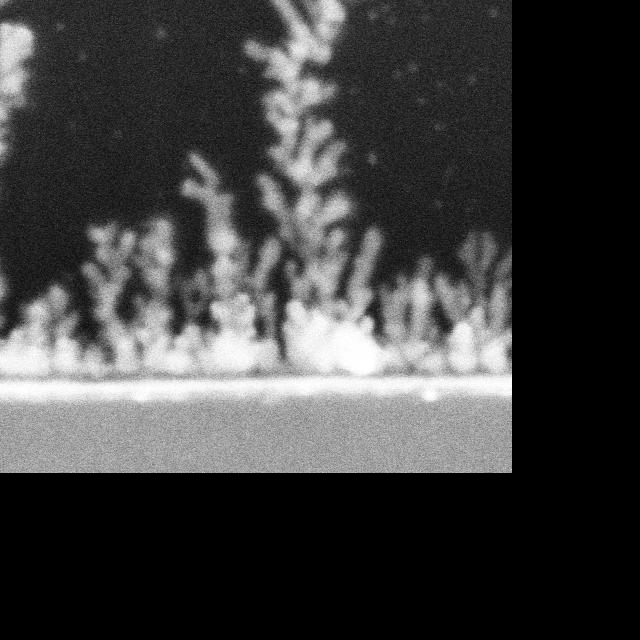Dendrite: (245, 0, 511, 375), (1, 152, 281, 375)
